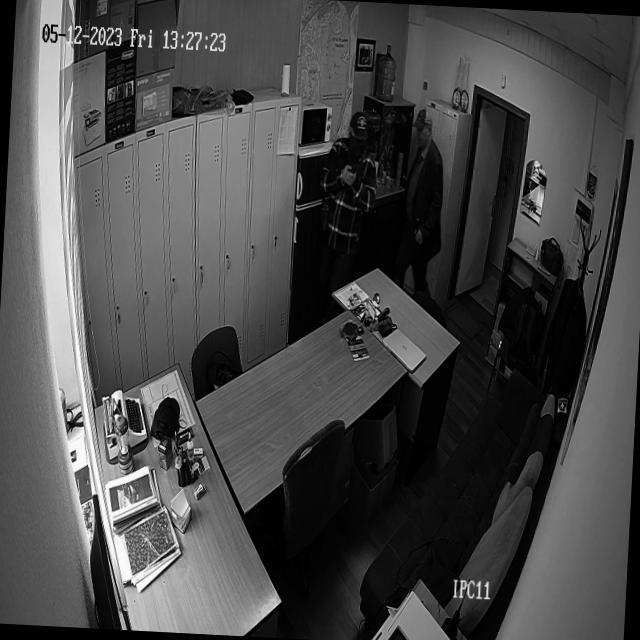gun: (341, 160, 358, 186)
person: (394, 108, 451, 286)
person with a gun: (314, 108, 382, 266)
